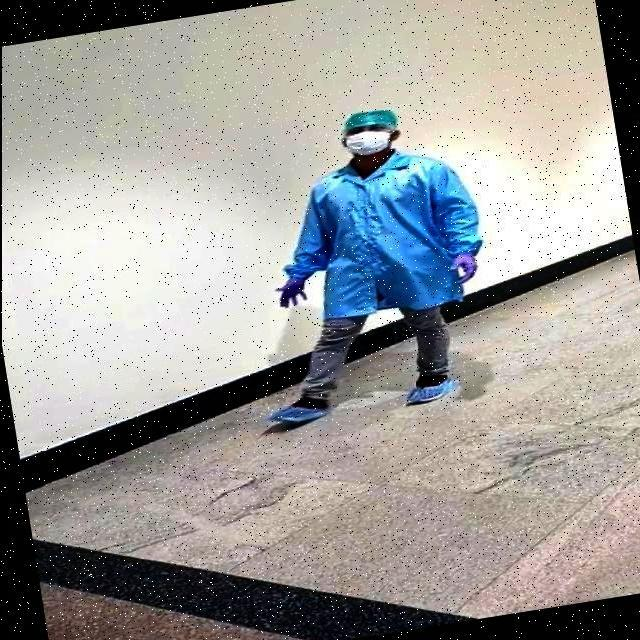gloves: (346, 102, 400, 132)
mask: (341, 135, 396, 155)
